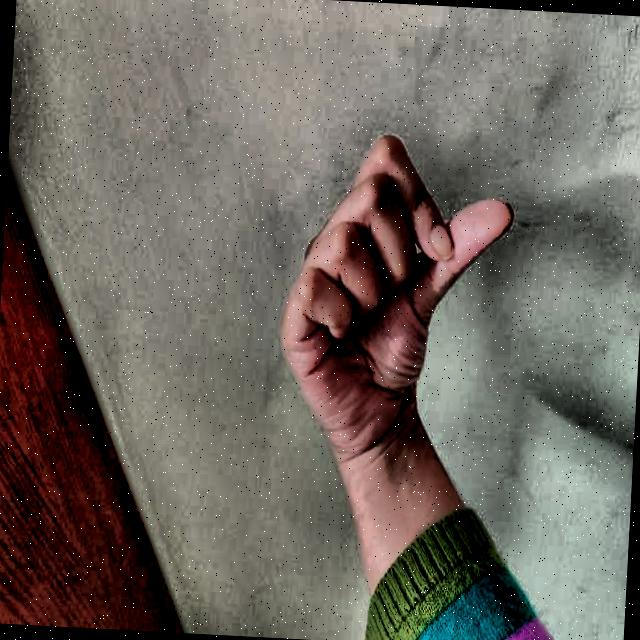Ay: (241, 102, 544, 483)
